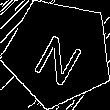N_NE: (28, 21, 88, 84)
